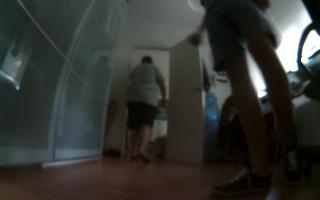person: (188, 1, 304, 200), (126, 51, 168, 170)
